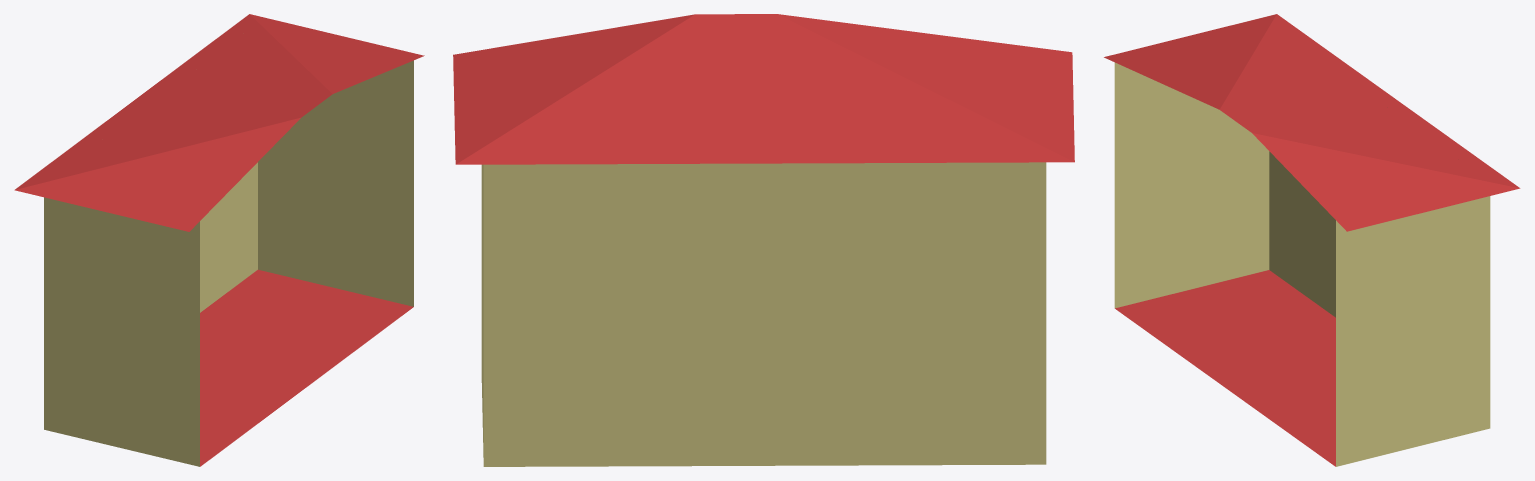
3 views of the same model, side by side, from view 1: azimuth 30°, elevation 25°; view 2: azimuth 150°, elevation 25°; view 3: azimuth 270°, elevation 25° (orthographic). The views are drawn at different scales.
Bounding box in the file's own units: 11.73 × 9.5 × 6.88.
